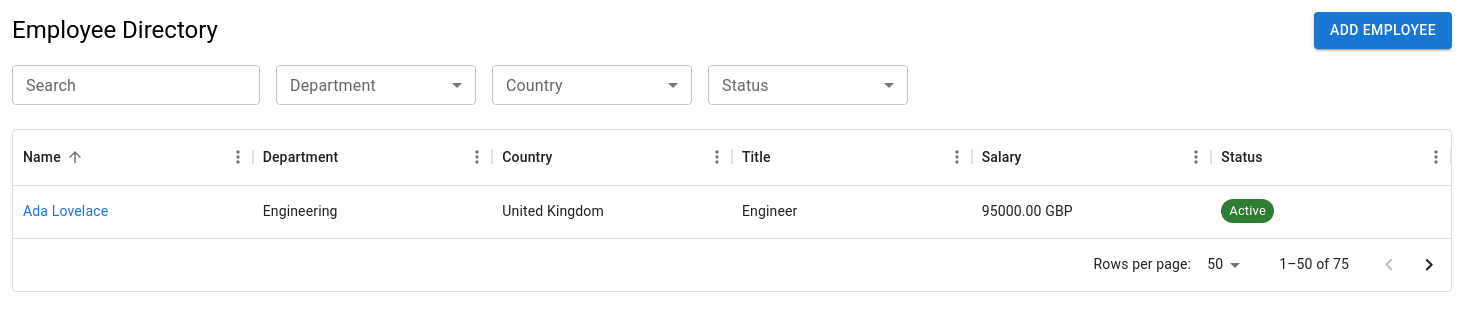
Test: employee directory › re-requests the next page of employees when the pagination control advances
This screenshot has width=1464, height=309.
Expected: the link "Ada Lovelace" is shown, [23,201,108,221]
Step 1. Click the button named "Go to next page" → (1429, 264), box [1409,244,1449,284]
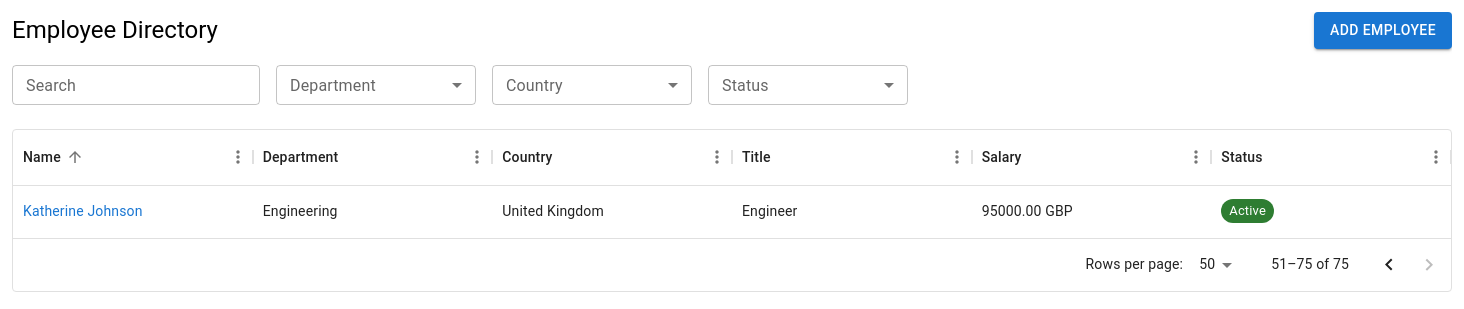
Now the link "Katherine Johnson" is shown, box [23,201,143,221]
